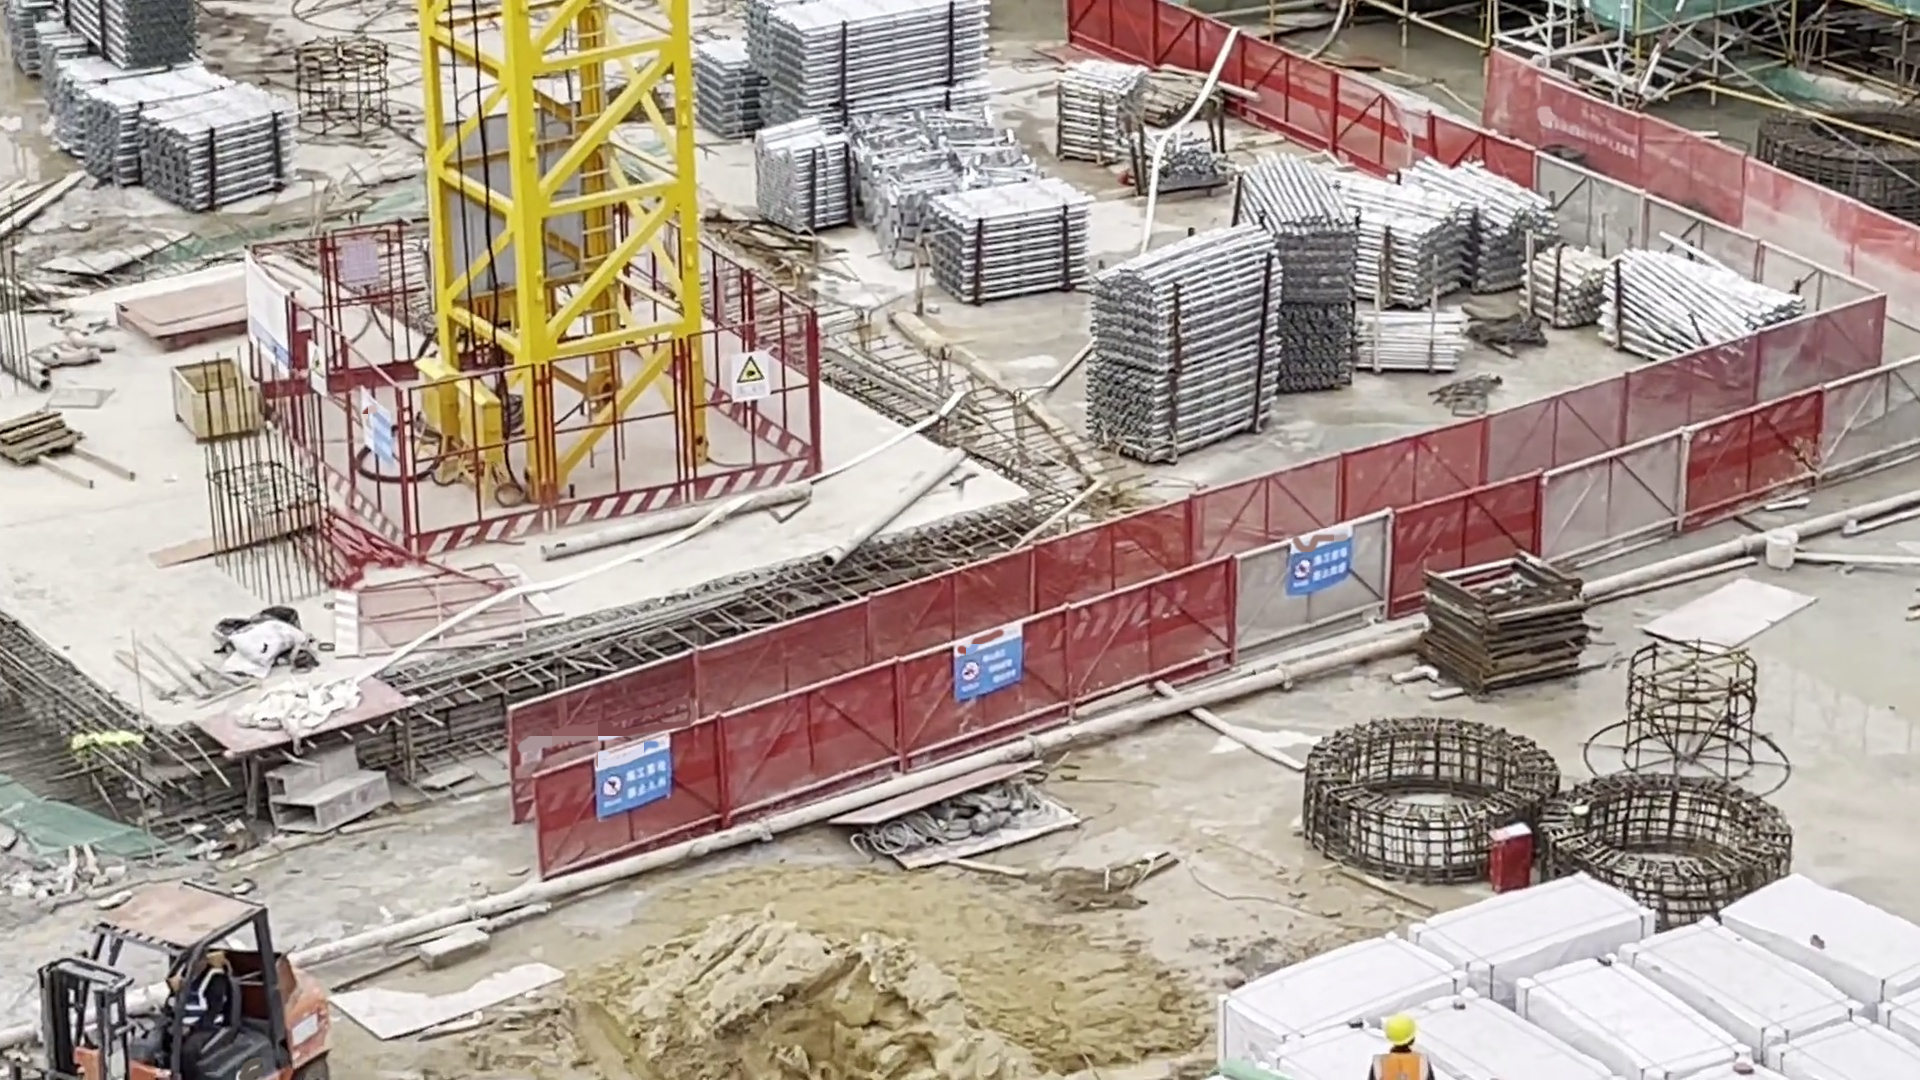ebox: (455, 380, 511, 510), (413, 356, 461, 481)
person: (1363, 1008, 1444, 1080)
scaffold: (1091, 224, 1283, 460), (1601, 247, 1808, 390), (748, 1, 983, 128), (1237, 150, 1350, 389), (1, 1, 141, 185), (1408, 156, 1556, 295), (141, 79, 297, 210), (934, 177, 1089, 305), (1350, 173, 1475, 307), (753, 119, 853, 237), (58, 1, 193, 70), (1057, 60, 1146, 160), (1357, 308, 1465, 373), (1524, 246, 1606, 330), (1127, 128, 1233, 187), (695, 40, 753, 142)
slogan: (598, 735, 669, 817), (955, 624, 1023, 702), (1286, 525, 1353, 597), (359, 390, 393, 465)
vest: (1373, 1053, 1429, 1080)
